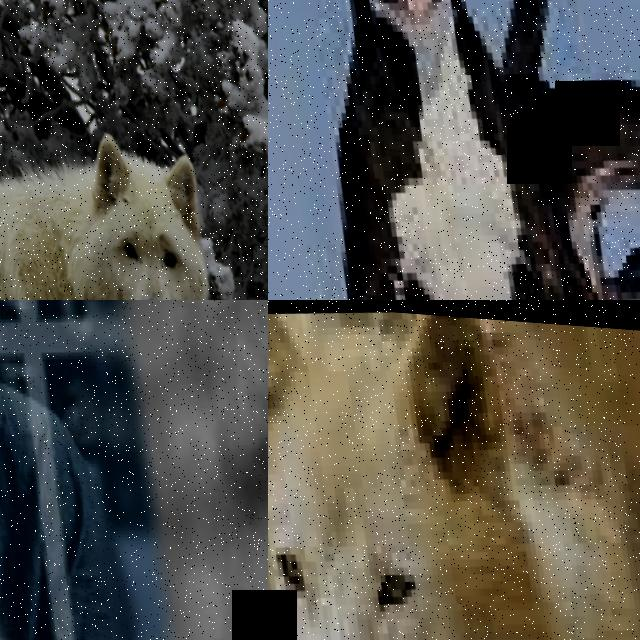dog: (268, 0, 640, 300)
wolf: (268, 300, 640, 640), (391, 307, 640, 640), (0, 69, 241, 300), (113, 300, 268, 640)
